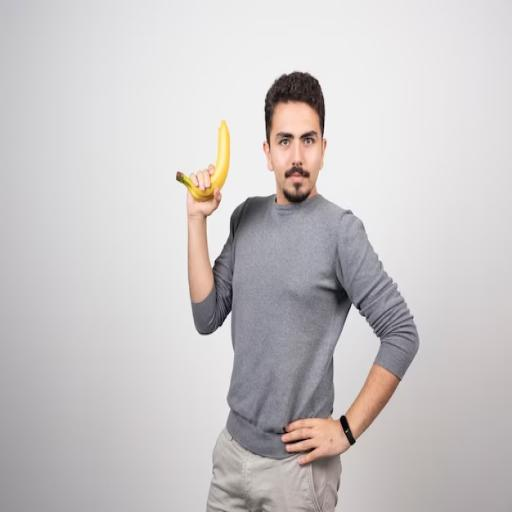banana: (176, 120, 229, 200)
